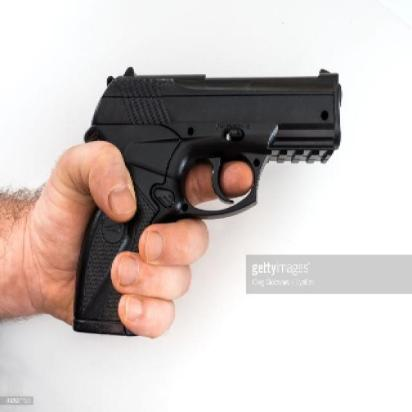Gun: (67, 64, 345, 339)
